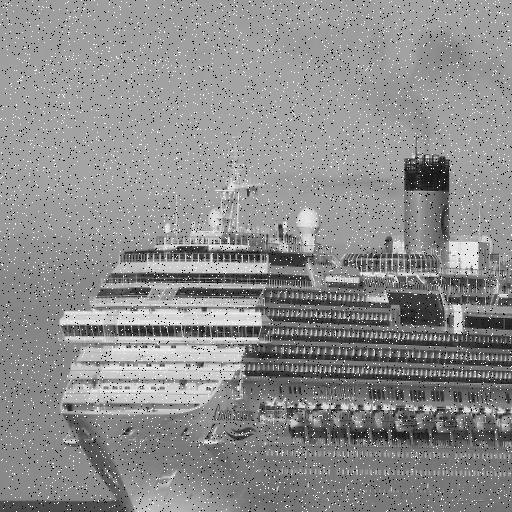cruises: (54, 131, 512, 512)
